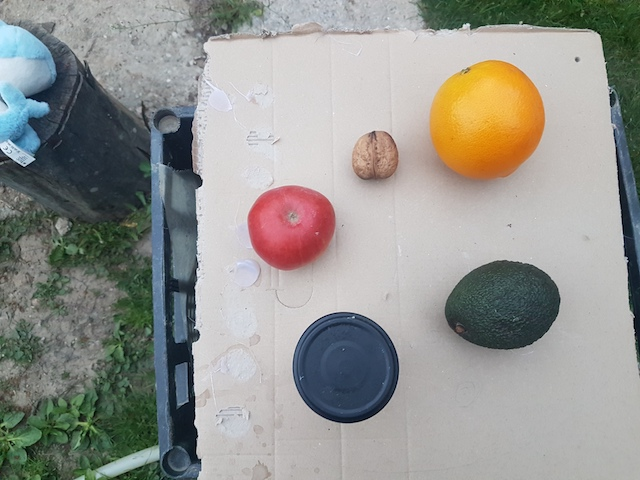apple: (244, 183, 338, 270)
avocado: (439, 254, 566, 355)
nut: (349, 126, 407, 184)
orange: (426, 55, 545, 184)
recipient: (290, 307, 402, 424)
